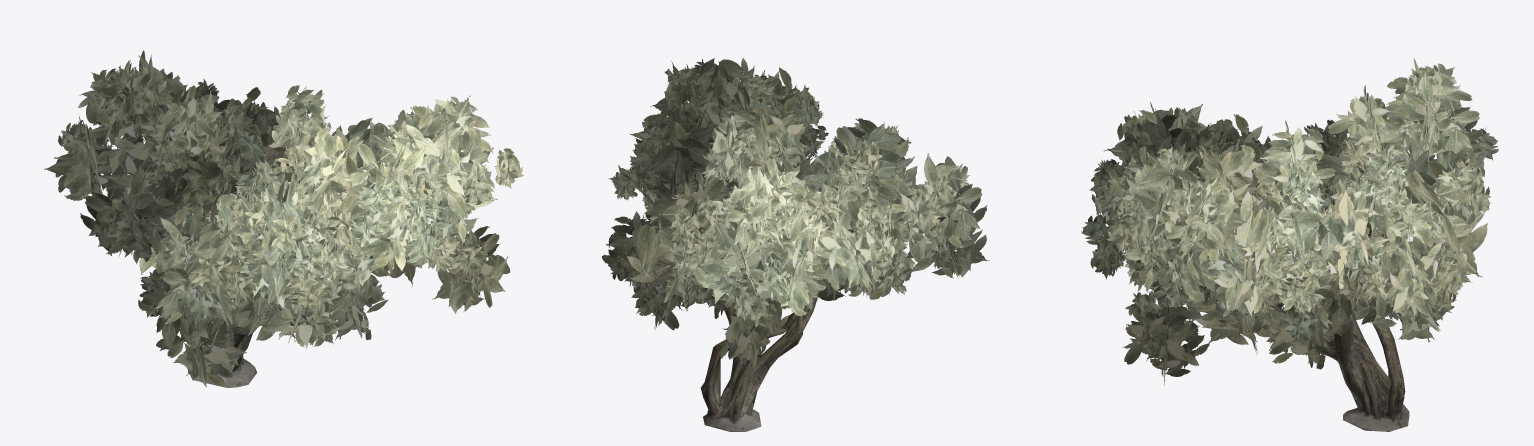
File: arbol_guayabo.glb
3 renders of one model, left to right at view 1: azimuth 30°, elevation 25°; view 2: azimuth 150°, elevation 25°; view 3: azimuth 270°, elevation 25°, orthographic. The views are drawn at different scales.
Visible parts, largest first — view 1: lejos, cerca; view 2: lejos, cerca; view 3: lejos, cerca.
Boxes of the visible parts, x1=… form: lejos: x1=44, y1=50, x2=510, y2=387; cerca: x1=58, y1=65, x2=523, y2=387; lejos: x1=602, y1=57, x2=989, y2=431; cerca: x1=608, y1=59, x2=969, y2=431; lejos: x1=1104, y1=57, x2=1490, y2=415; cerca: x1=1081, y1=63, x2=1498, y2=431.
Bounding box in the file's own units: 4.94 × 4.03 × 4.86.
2 materials, 2 textured.
